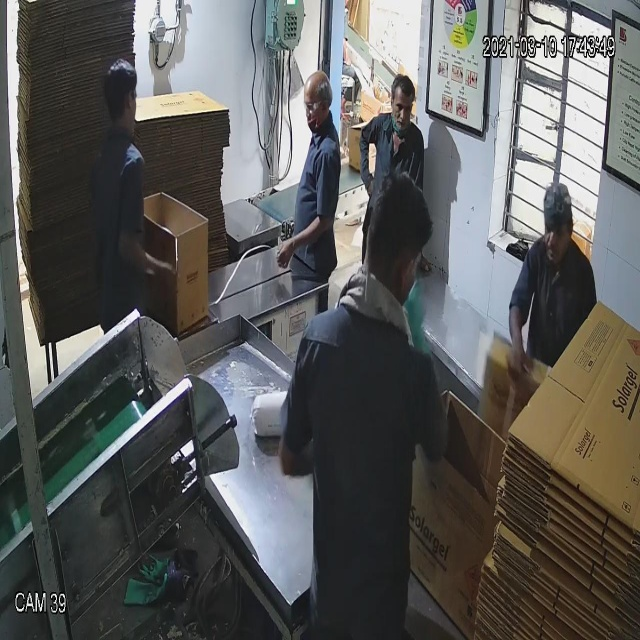Sin_guantes: (112, 220, 187, 296), (272, 211, 337, 273), (505, 295, 532, 393)
